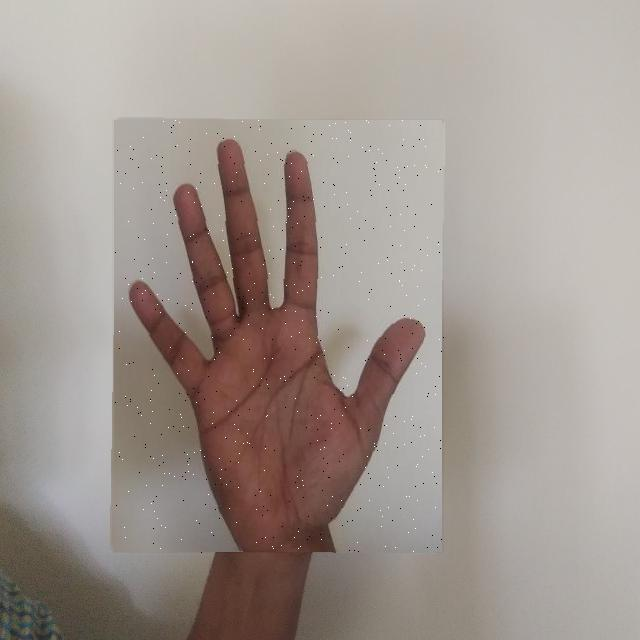Yes: (112, 119, 444, 553)
